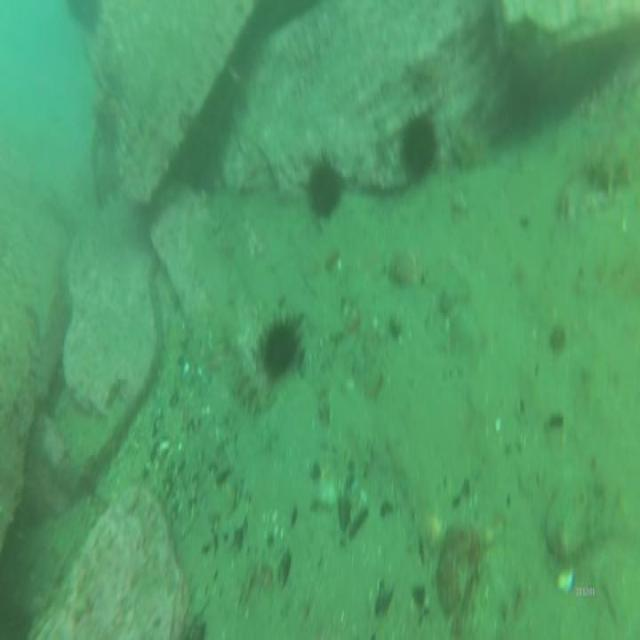echinus: (255, 305, 307, 389), (394, 101, 442, 187), (300, 152, 348, 226)
